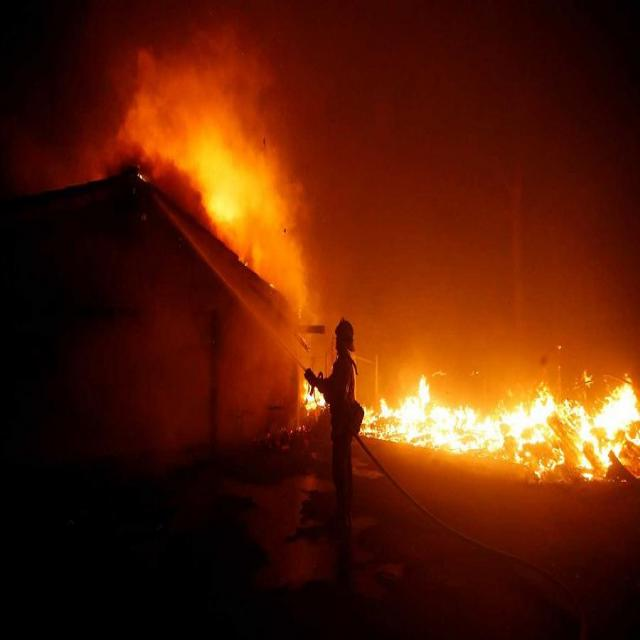fire: (77, 42, 315, 338), (368, 367, 640, 489)
